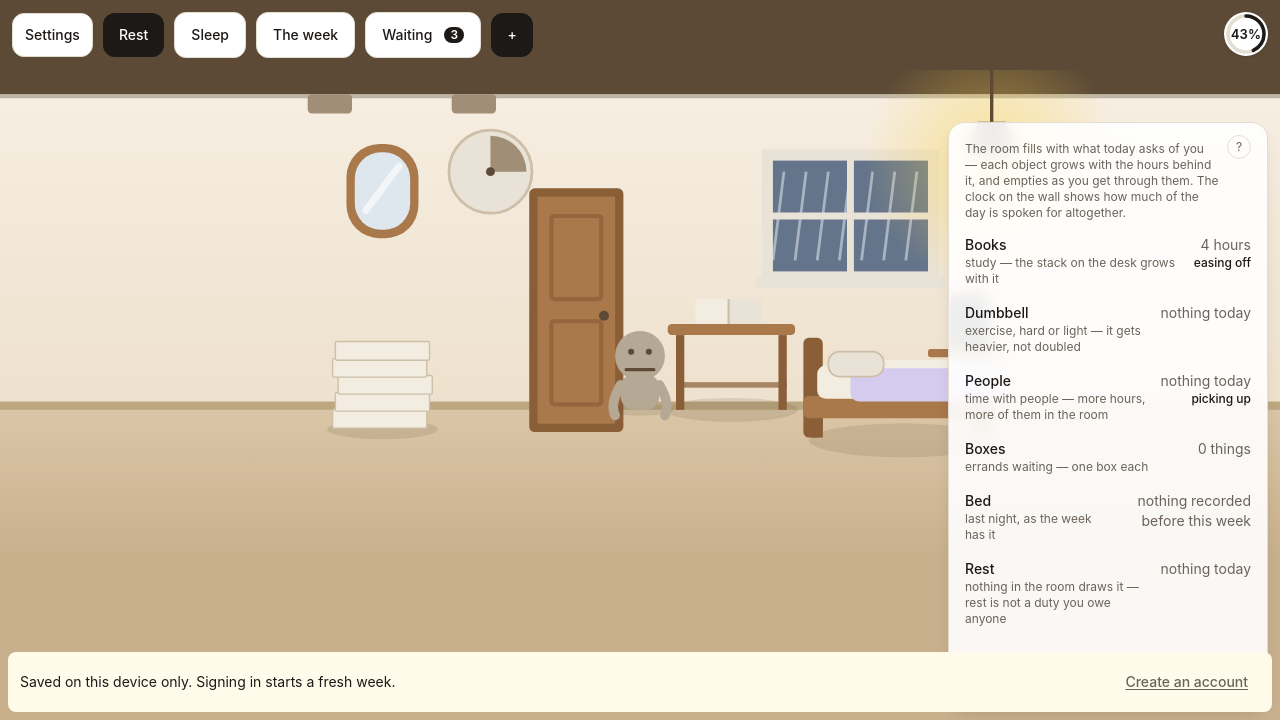
Test: RoomShell › routing › opens add as a sheet over the room and closes back to it
The image size is (1280, 720).
Click the button with test id "open-add". click: (512, 35)
box: [491, 13, 533, 57]
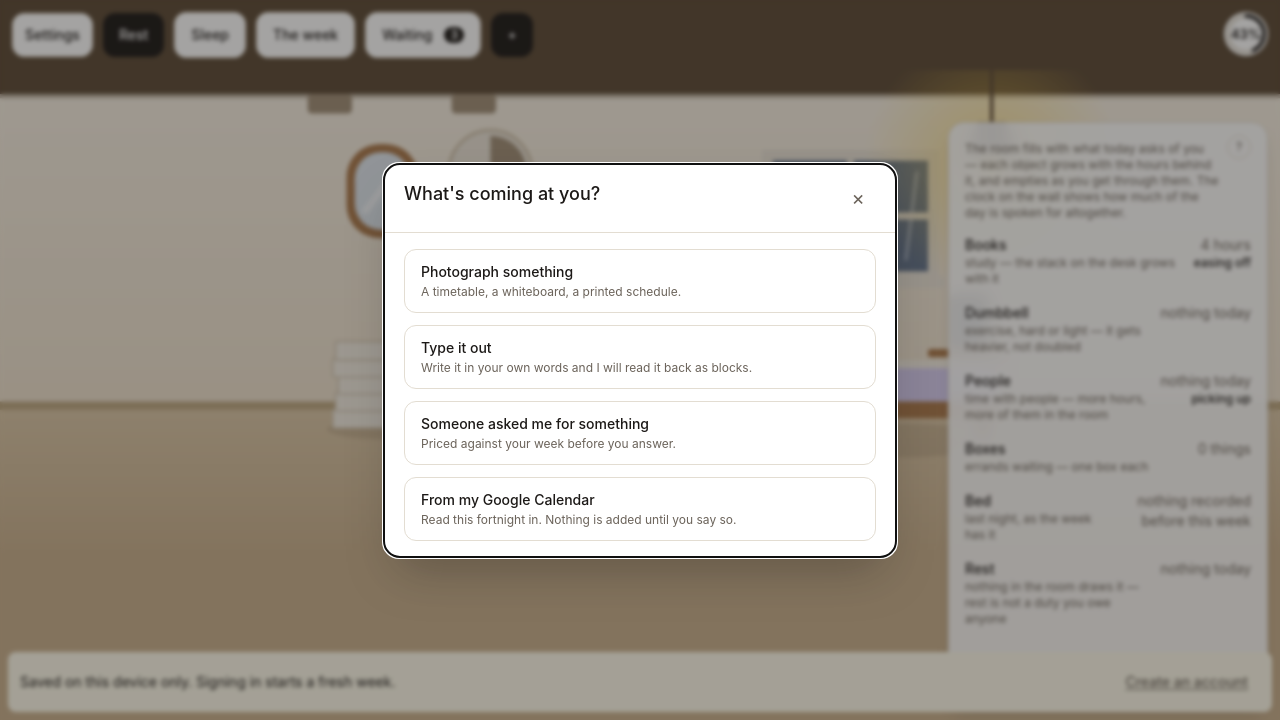
Expected: the dialog "What's coming at you" is shown, [384, 164, 896, 556]
Click the button named "close". click: (858, 198)
box: [836, 176, 880, 220]
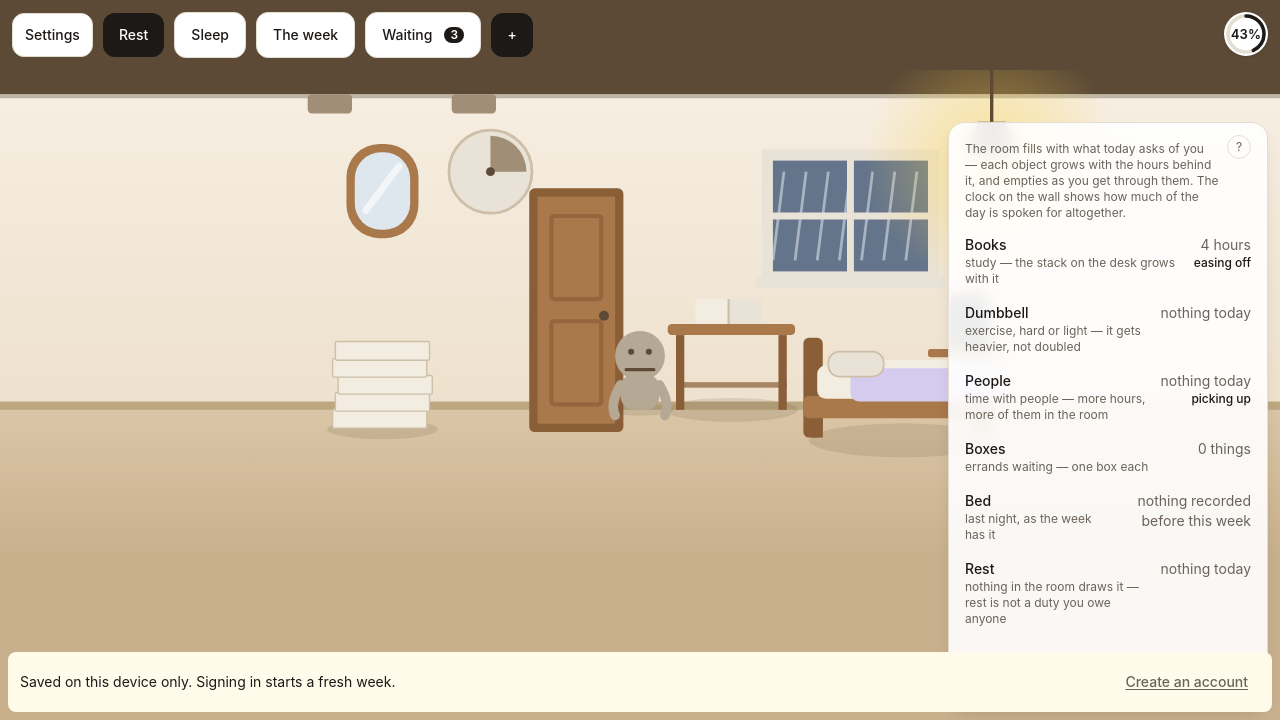
Expected: the dialog is gone
